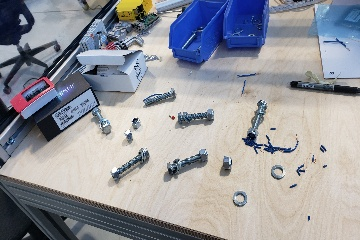Bolt: (142, 85, 178, 107)
FalseAssembly: (244, 97, 268, 143), (172, 107, 220, 126)
FinishedAssembly: (162, 147, 210, 180), (109, 145, 150, 181), (89, 105, 114, 136)
Nut: (220, 154, 235, 174), (129, 115, 144, 130), (123, 129, 134, 140)
Washer: (230, 189, 250, 208), (268, 161, 287, 180)
